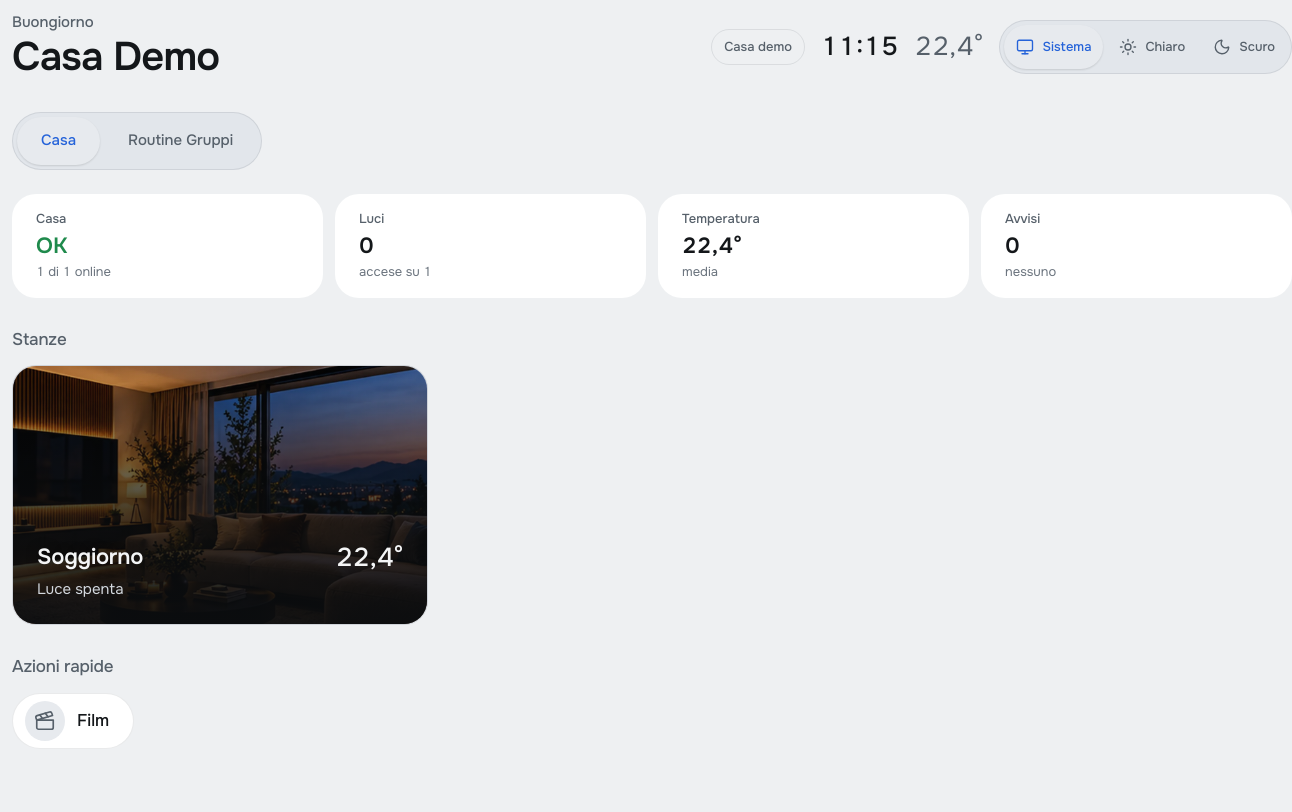
Test case: HomePage tabs › reports a failed execution as a subtle error message
Expected: the heading "Stanze" is shown, [12,329,66,350]
Step 1. Click the tab "Routine Gruppi" → x=181, y=141, box [104,117,257,165]
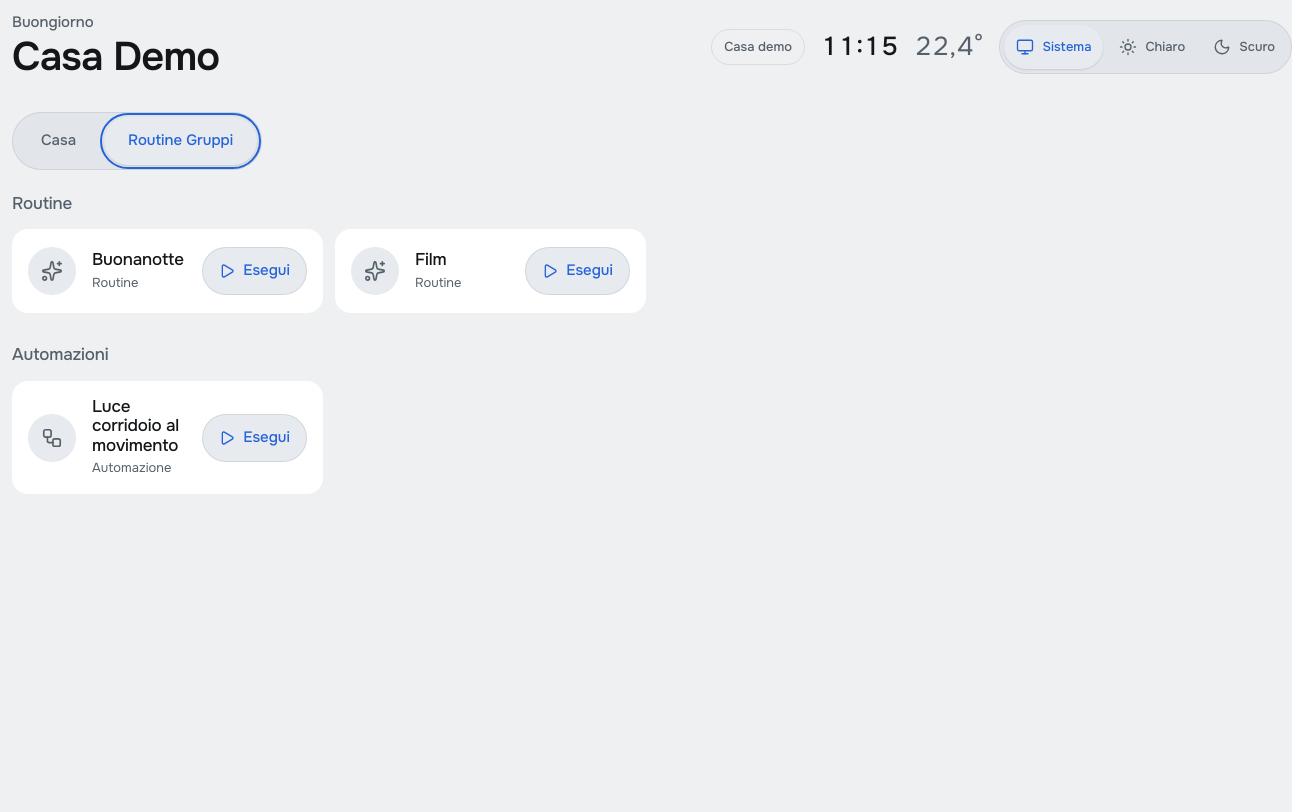
Step 2. Click the button with aria-label "Esegui Film" → x=578, y=271, box [525,247,630,295]
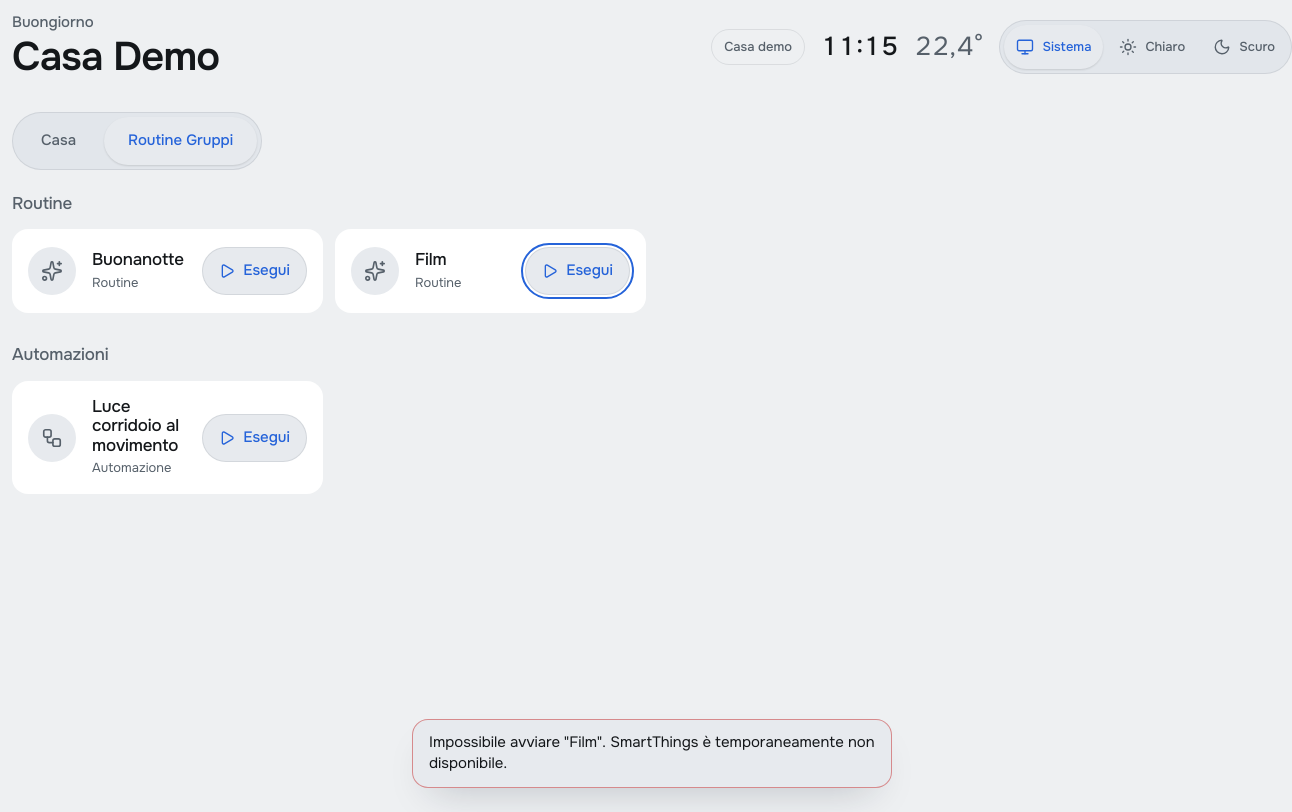
Now the button "Impossibile avviare \"Film\"" is shown, box [412,718,892,788]
